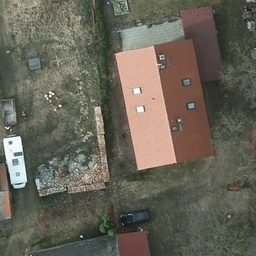car: (120, 209, 150, 226)
